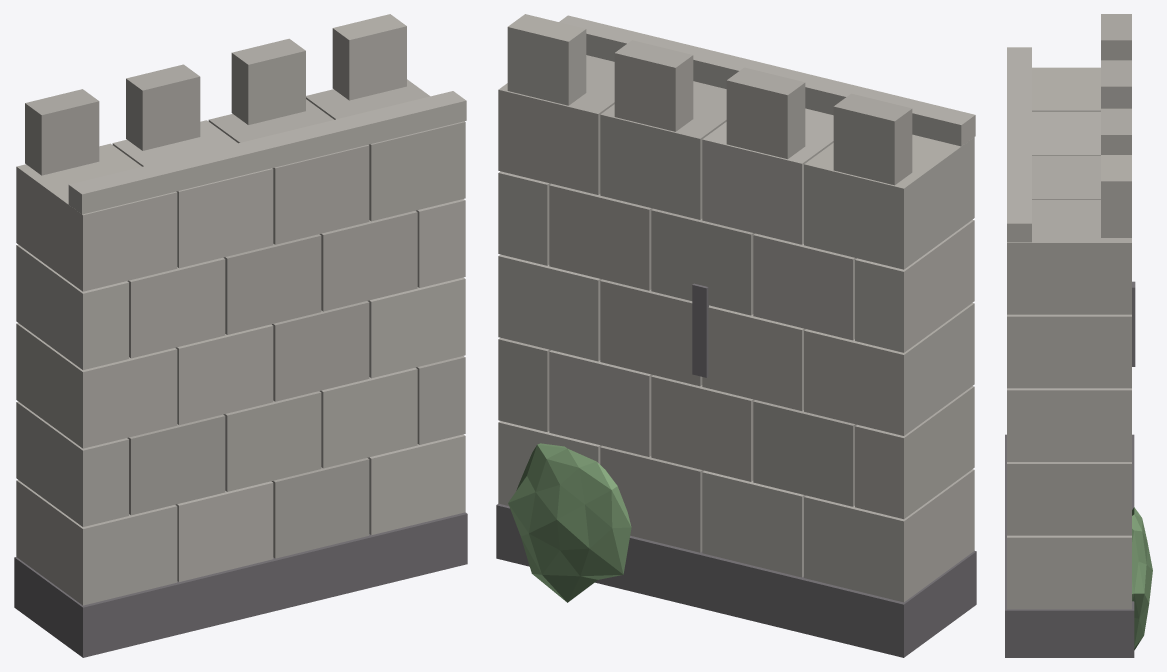
File: castle_wall.glb
3 renders of one model, left to right at view 1: azimuth 30°, elevation 25°; view 2: azimuth 150°, elevation 25°; view 3: azimuth 270°, elevation 25°, orthographic. The views are drawn at different scales.
Parts seen in each view (by area): view 1: castle_wall; view 2: castle_wall; view 3: castle_wall.
Boxes of the visible parts, x1,y1,x2,y2 form: castle_wall: [14, 14, 467, 657]; castle_wall: [496, 14, 976, 657]; castle_wall: [1005, 14, 1152, 657].
Size of the model in its own units: 4 by 5.25 by 1.42.
